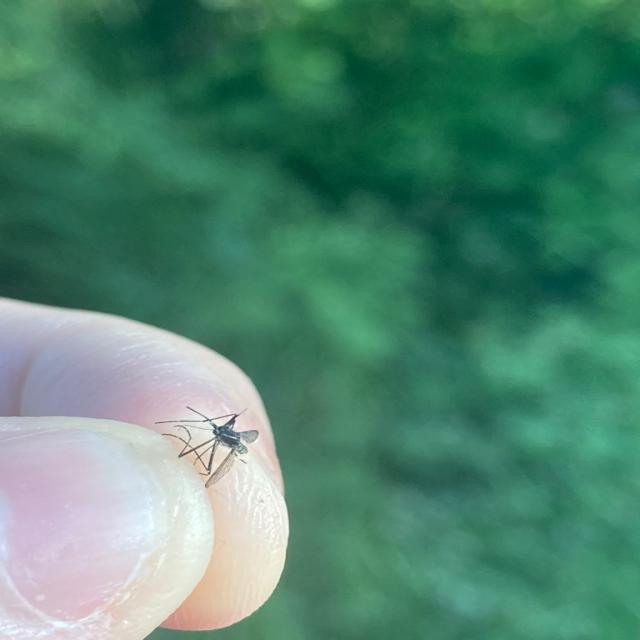albopictus: (153, 397, 264, 484)
